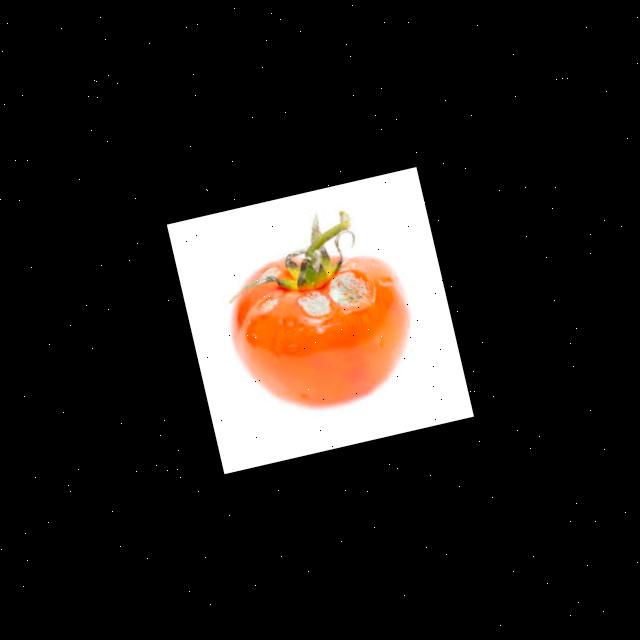tomato: (212, 213, 432, 430)
